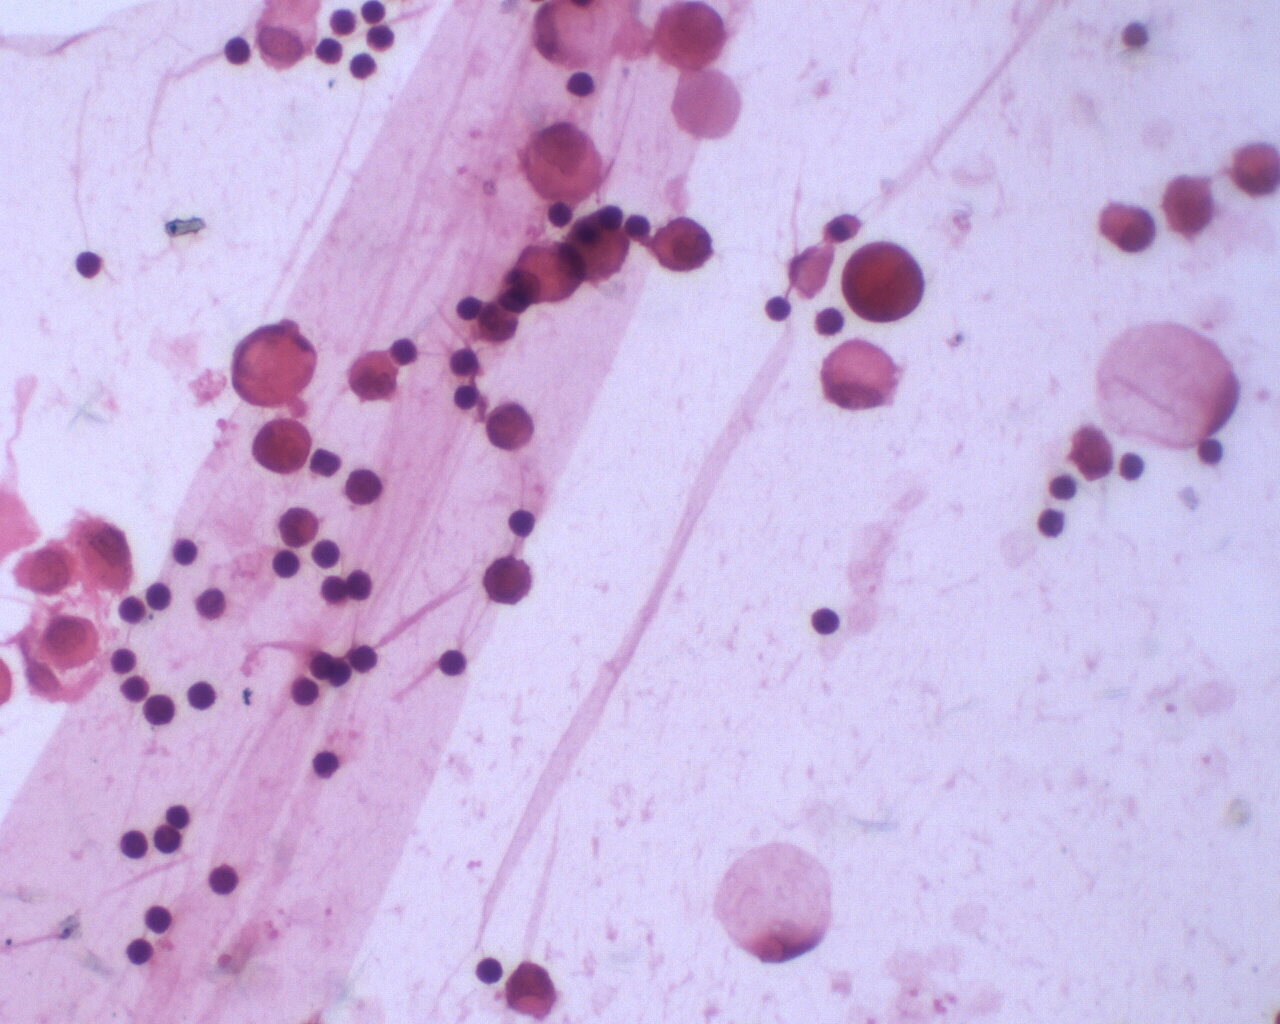ab: (510, 119, 609, 207), (839, 235, 928, 331), (648, 2, 734, 72), (11, 539, 84, 606), (245, 415, 317, 478), (649, 211, 714, 277), (478, 551, 541, 612), (38, 616, 107, 673), (505, 957, 564, 1021)
histo: (1088, 316, 1243, 451), (713, 835, 841, 970), (816, 339, 904, 423)
lymph: (110, 822, 150, 866), (185, 679, 229, 719), (435, 645, 479, 683), (311, 743, 354, 782), (140, 899, 181, 937), (267, 550, 306, 589), (220, 32, 261, 70), (345, 639, 382, 678), (164, 531, 201, 571), (385, 336, 427, 370), (74, 243, 108, 286), (505, 506, 544, 540), (474, 953, 511, 990), (805, 600, 840, 635), (450, 381, 484, 415)
